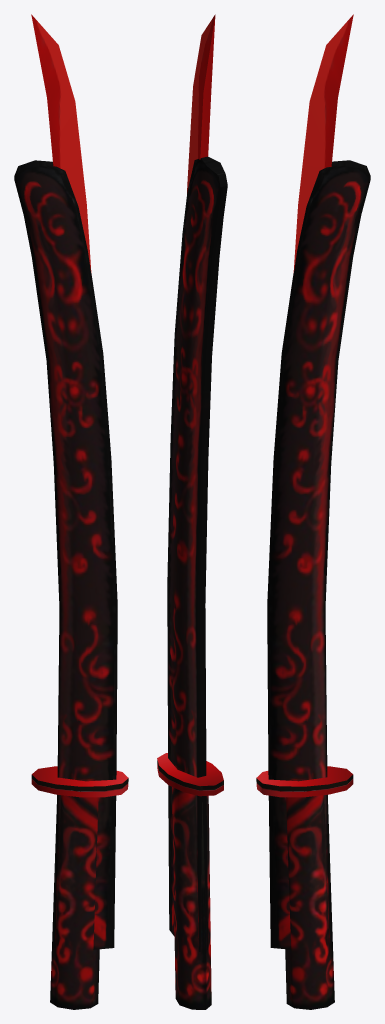
Rendered from WP_2H_Nodachi103.FBX.
3 views of the same model, side by side, from view 1: azimuth 90°, elevation 25°; view 2: azimuth 210°, elevation 25°; view 3: azimuth 270°, elevation 25° (orthographic).
Parts seen in each view (by area): view 1: WP_2H_NodachiScabbard103, WP_2H_Nodachi103; view 2: WP_2H_NodachiScabbard103, WP_2H_Nodachi103; view 3: WP_2H_NodachiScabbard103, WP_2H_Nodachi103.
Boxes of the visible parts, bbox=[...] form: WP_2H_NodachiScabbard103: bbox=[14, 160, 117, 949]; WP_2H_Nodachi103: bbox=[31, 14, 128, 1009]; WP_2H_NodachiScabbard103: bbox=[167, 156, 227, 951]; WP_2H_Nodachi103: bbox=[157, 14, 223, 1009]; WP_2H_NodachiScabbard103: bbox=[267, 160, 370, 949]; WP_2H_Nodachi103: bbox=[256, 14, 353, 1009].
Size of the model in its own units: 7.22 by 158 by 16.57.
